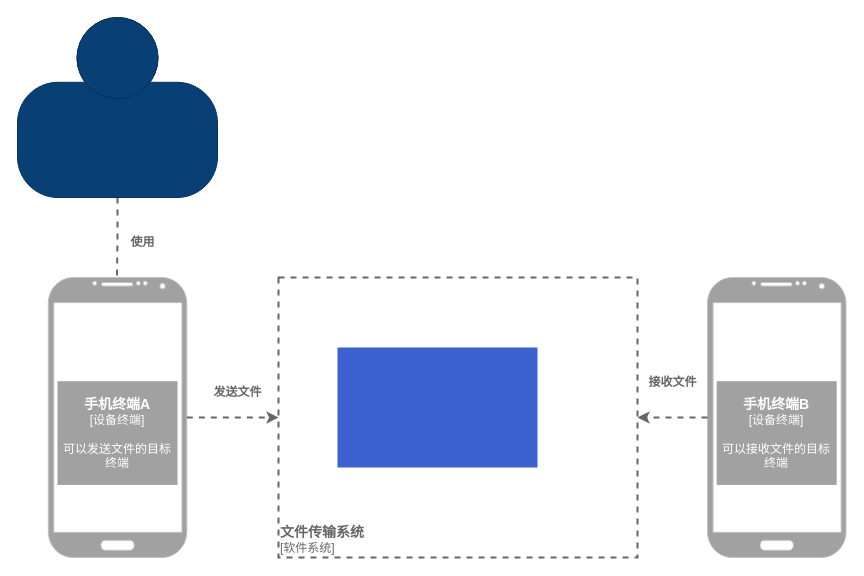
Image size: 864x576. Some labels were removed from this diagram. The shapes that lost their labels are listed below. From the top down, each one's centre as x and y in pixels, then its label:
(x=117, y=107): 文件传输用户 [Person] 一个普通的用户， 需要将文件从手机A发送到手机B
(x=437, y=407): 文件传输系统 [软件系统] 允许用户将文件上传到目标终端，或从目标终端上下载文件
